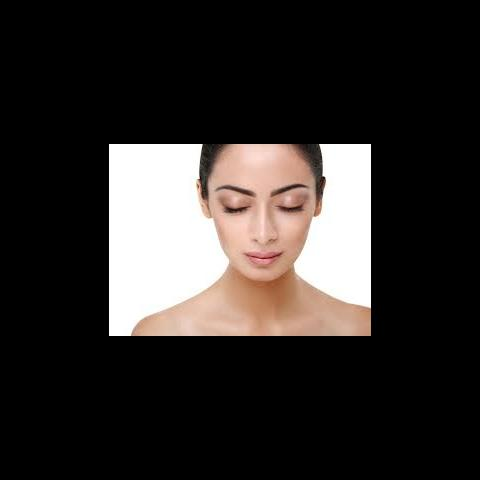closed: (208, 175, 318, 221)
